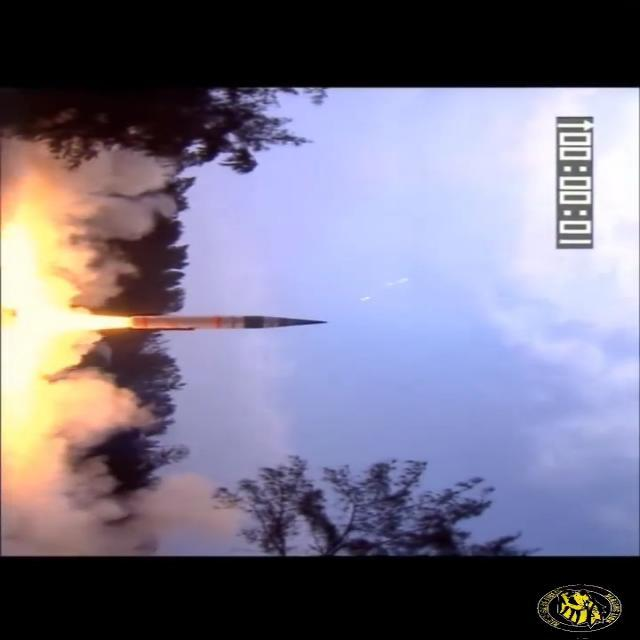missile: (135, 313, 325, 332)
